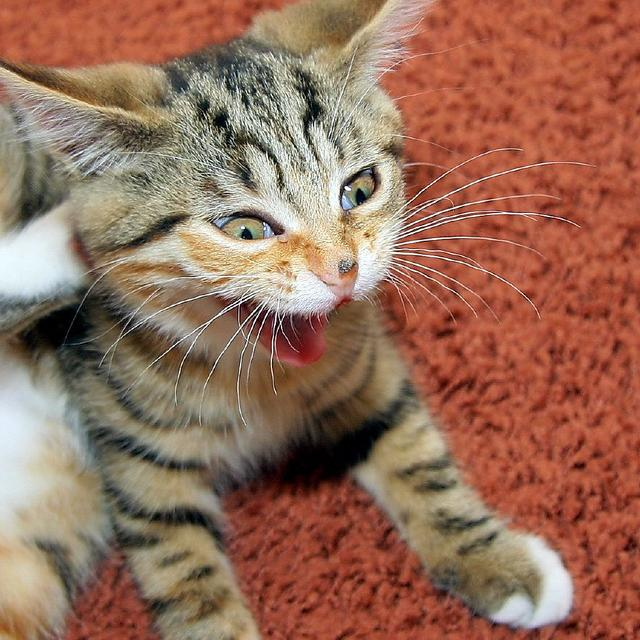animals: (0, 0, 413, 290)
